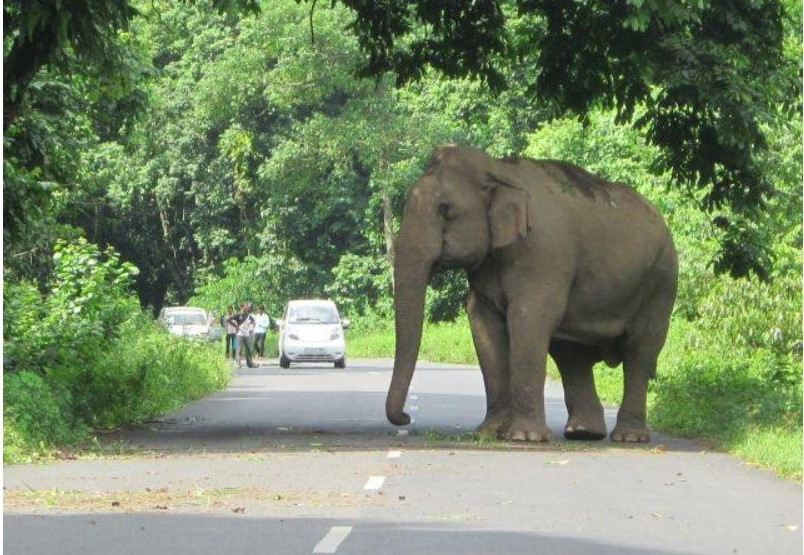Elephant: (384, 144, 684, 446)
Road: (6, 360, 783, 555)
